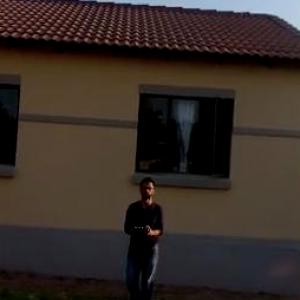follow: (116, 169, 164, 299)
